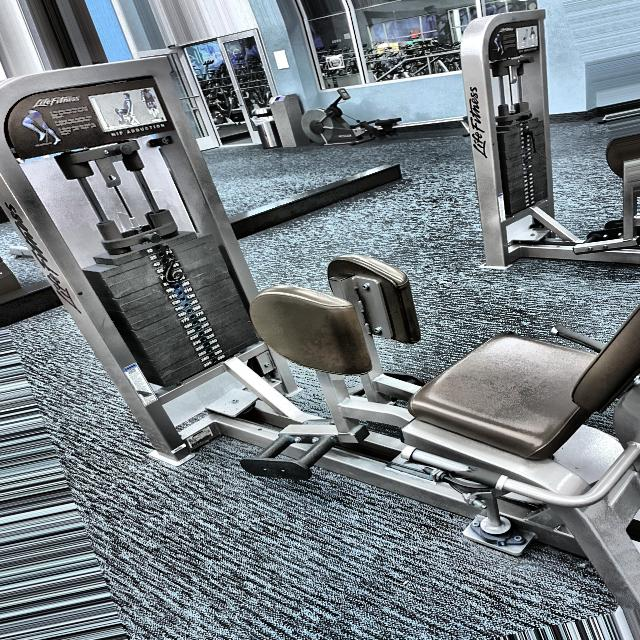hip_adduction_machine: (235, 228, 475, 499), (25, 78, 184, 150), (106, 120, 168, 140)
